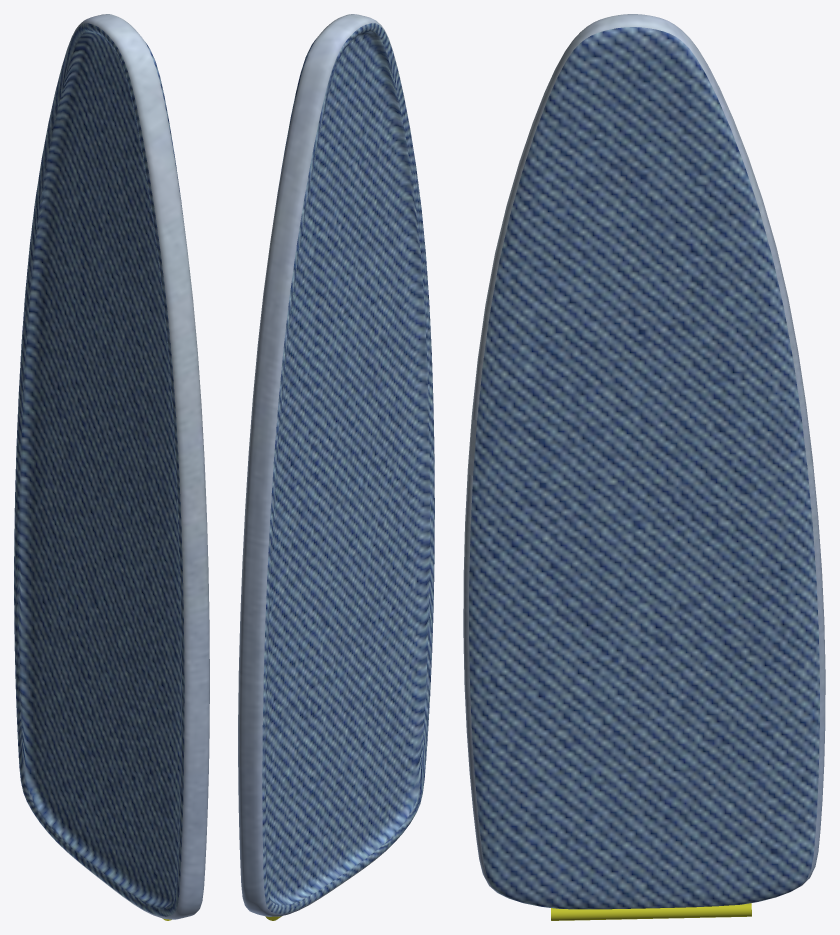
The model's file is Burro.obj.
3 views of the same model, side by side, from view 1: azimuth 30°, elevation 25°; view 2: azimuth 150°, elevation 25°; view 3: azimuth 270°, elevation 25° (orthographic). The views are drawn at different scales.
Parts seen in each view (by area): view 1: polySurface288; view 2: polySurface288; view 3: polySurface288.
Boxes of the visible parts, x1=… form: polySurface288: x1=14, y1=14, x2=209, y2=920; polySurface288: x1=238, y1=14, x2=434, y2=920; polySurface288: x1=463, y1=14, x2=825, y2=920.
Bounding box in the file's own units: 0.0928 × 2.07 × 0.7593.
3 materials, 3 textured.
